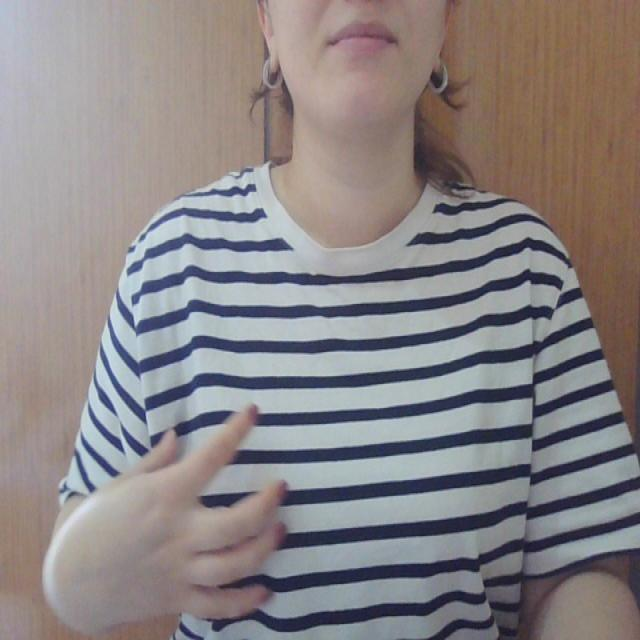Anne: (91, 403, 531, 640)
